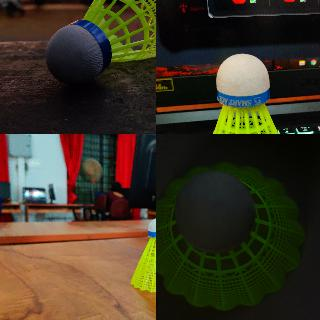shuttlecock: (156, 163, 305, 311), (46, 0, 155, 78), (196, 51, 299, 133), (131, 217, 155, 293)
